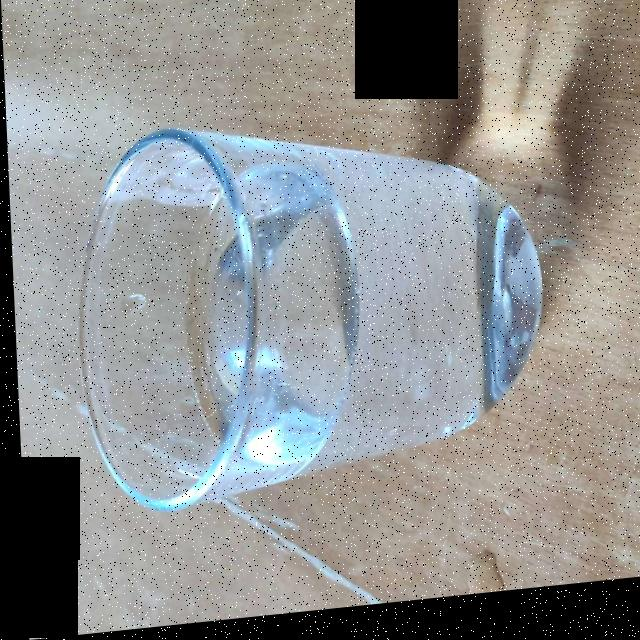water: (190, 180, 534, 505)
